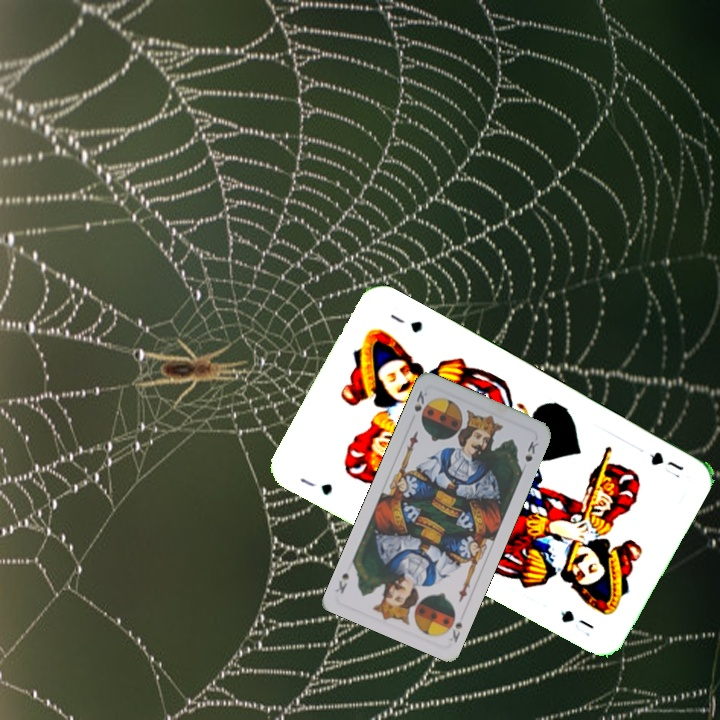GU: (646, 447, 686, 481), (295, 473, 335, 499)
SK: (442, 607, 465, 645), (410, 386, 430, 414)
